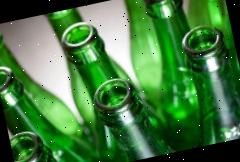glass: (57, 7, 176, 162), (178, 19, 240, 146), (8, 123, 68, 162)
